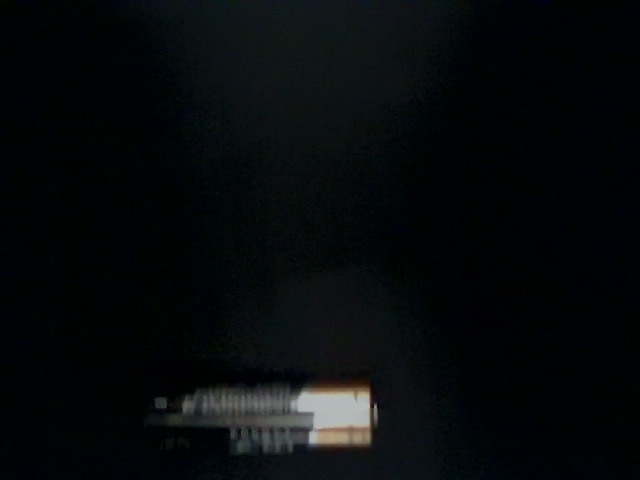YHLJ: (379, 175, 514, 423)
